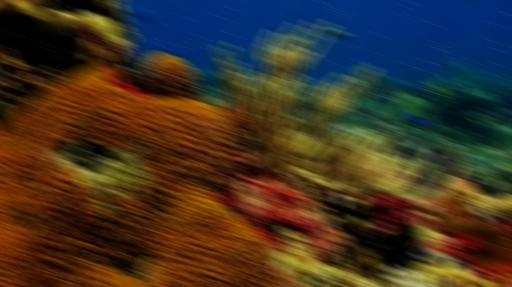Fish: (408, 245, 435, 264), (445, 256, 466, 267), (405, 116, 430, 125), (325, 28, 348, 36), (136, 14, 149, 22)
